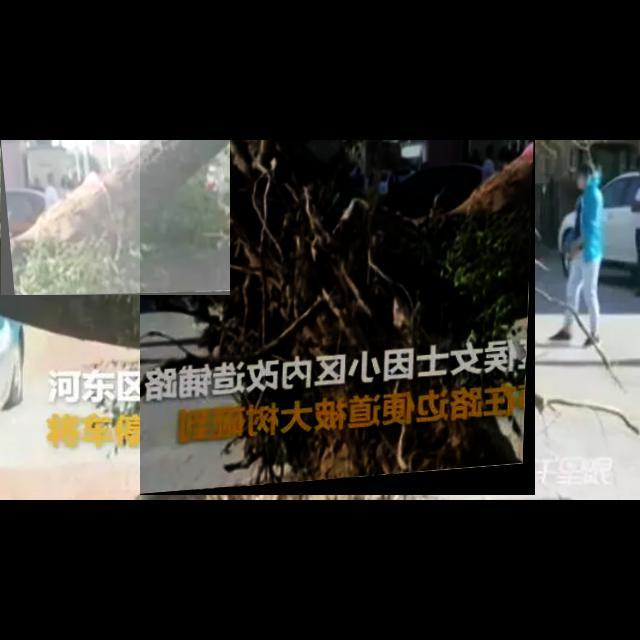fallen_tree: (140, 140, 536, 496), (1, 140, 231, 296)
